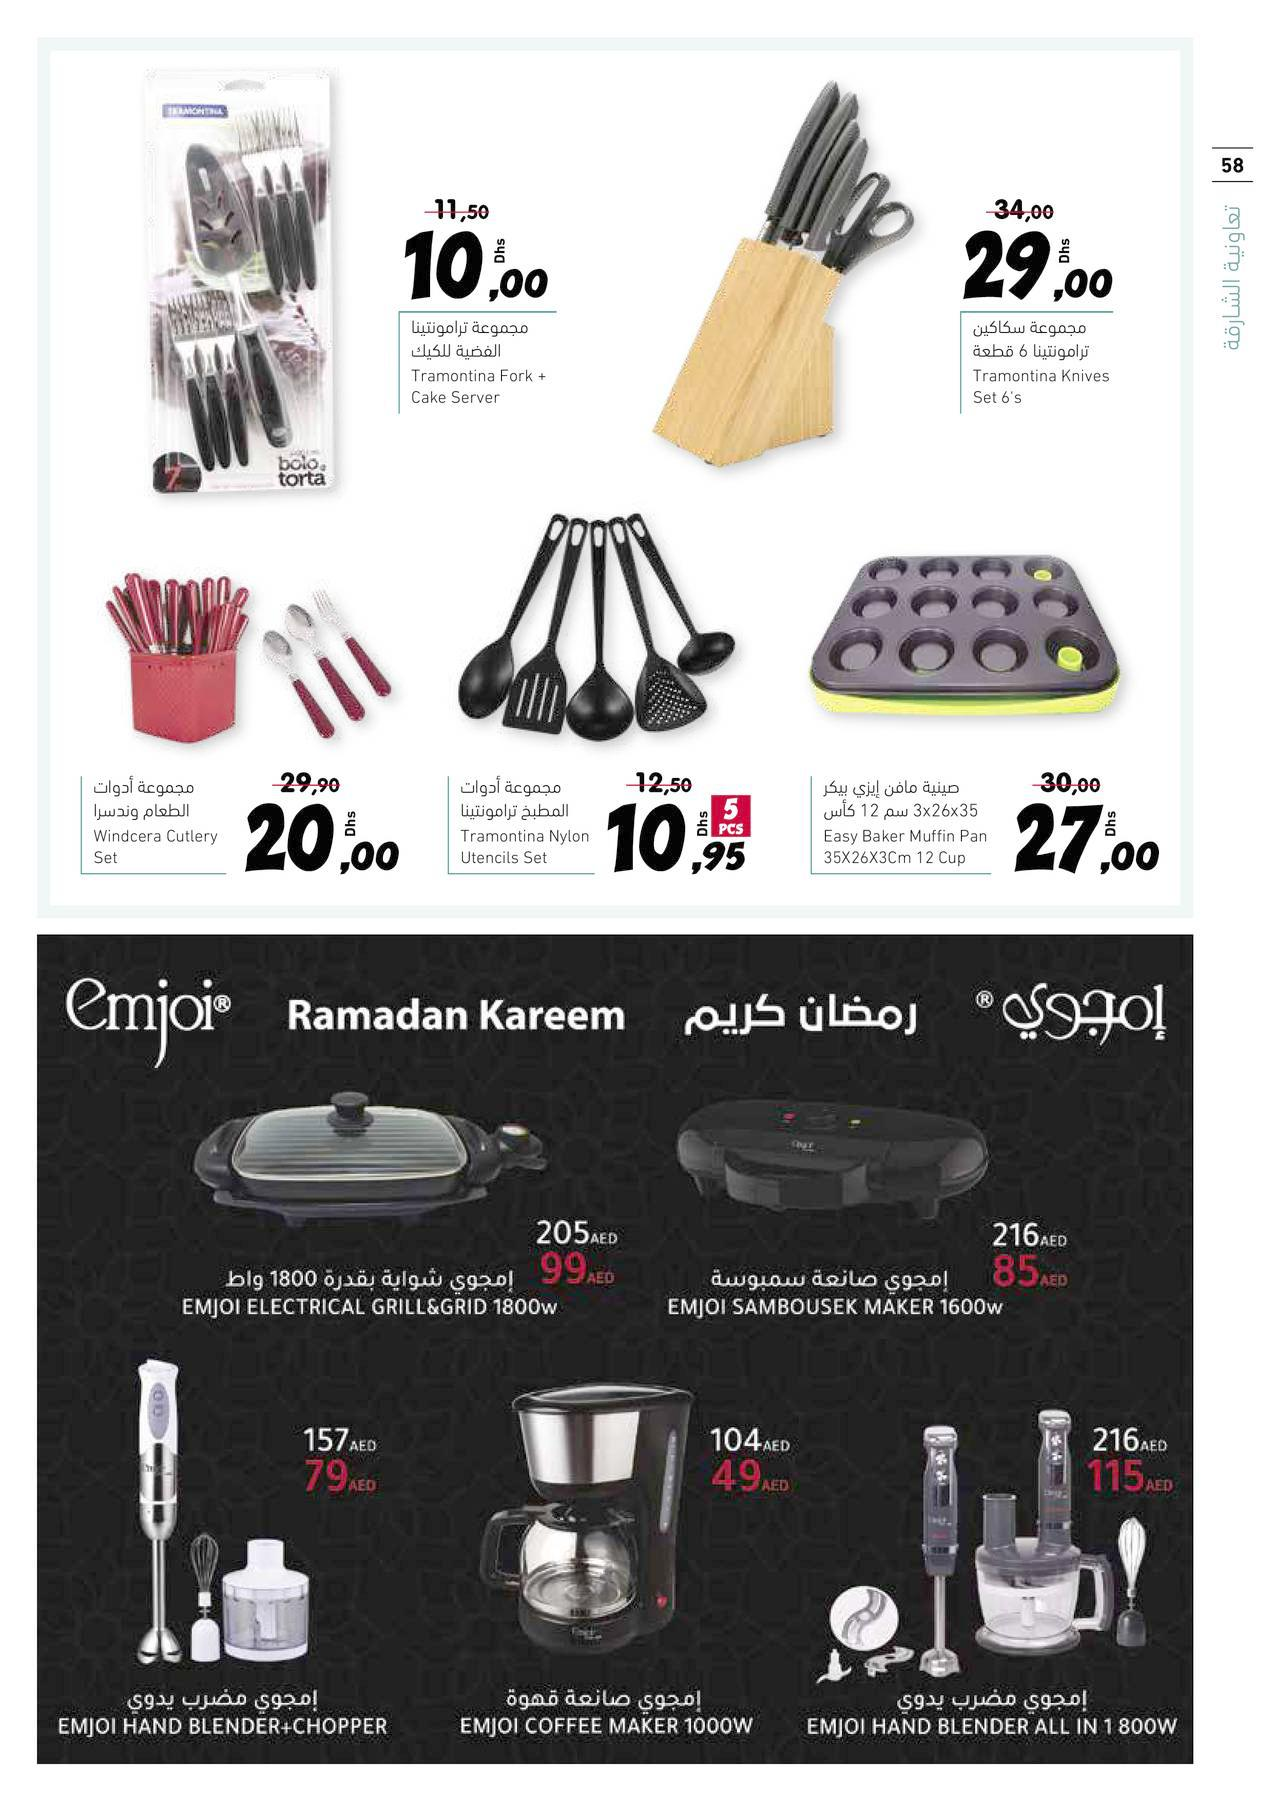text: (280, 983, 630, 1044), (55, 960, 240, 1067), (665, 985, 929, 1047), (997, 974, 1175, 1058), (171, 1295, 568, 1328), (656, 1290, 1011, 1326), (451, 1710, 766, 1748), (52, 1713, 404, 1746), (214, 1262, 525, 1295), (113, 1676, 332, 1717), (811, 822, 995, 870), (818, 777, 993, 824), (703, 1262, 962, 1292), (490, 1682, 722, 1715), (964, 366, 1117, 415), (889, 1682, 1102, 1715), (402, 364, 557, 409), (966, 317, 1105, 365), (453, 825, 601, 870), (451, 774, 579, 825), (84, 826, 222, 868), (404, 320, 537, 361), (88, 777, 198, 824)
